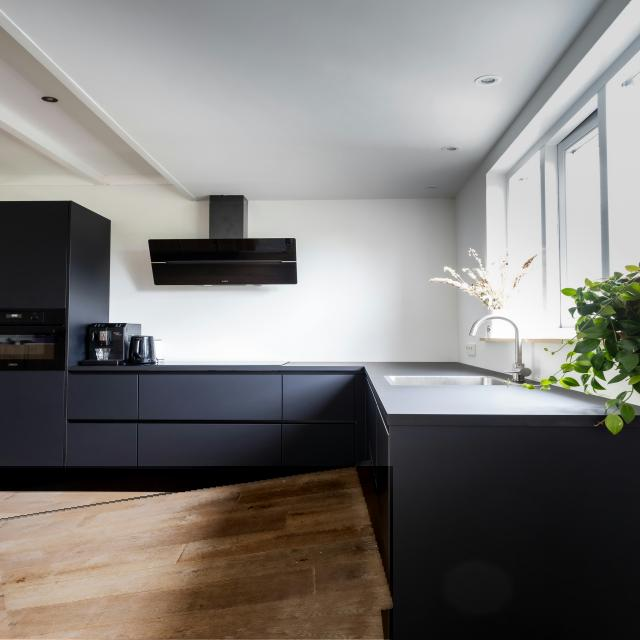floor: (0, 466, 393, 640)
